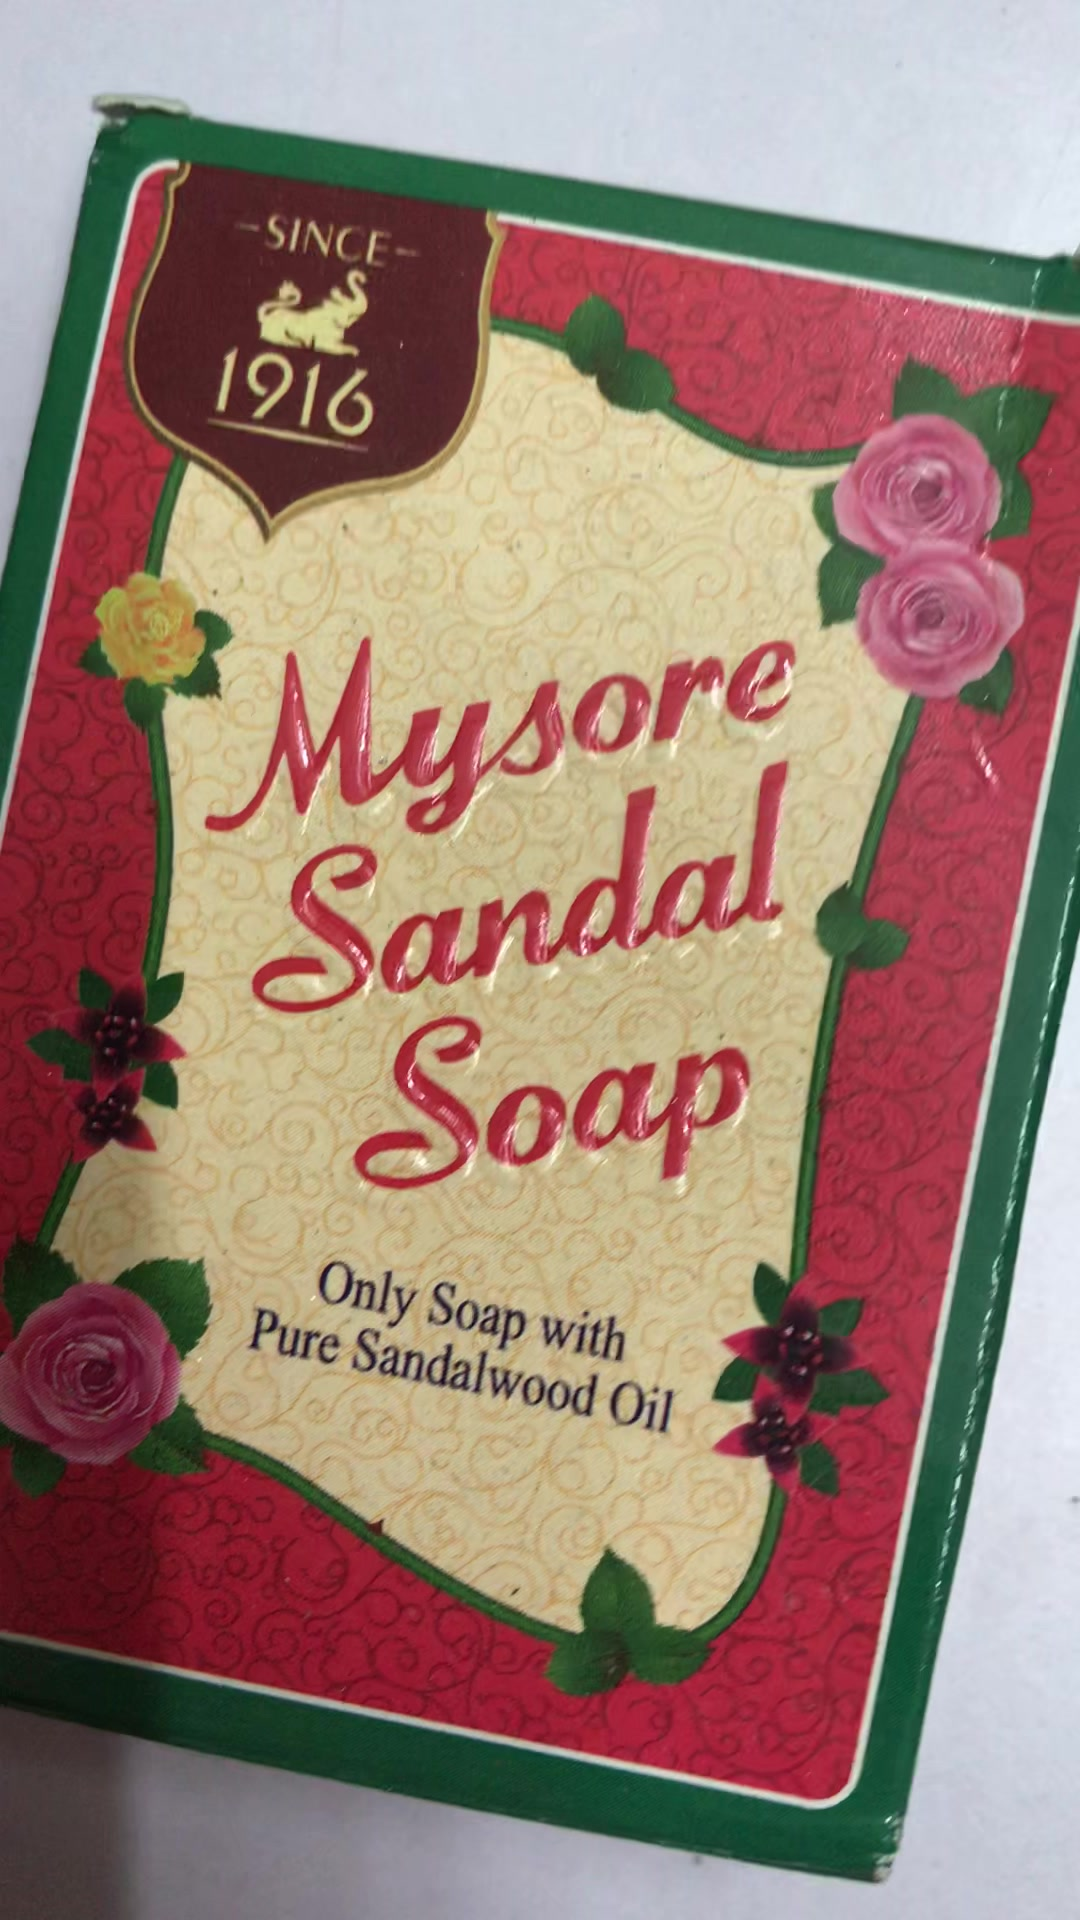mysore sandal soap: (1, 99, 1073, 1883)
